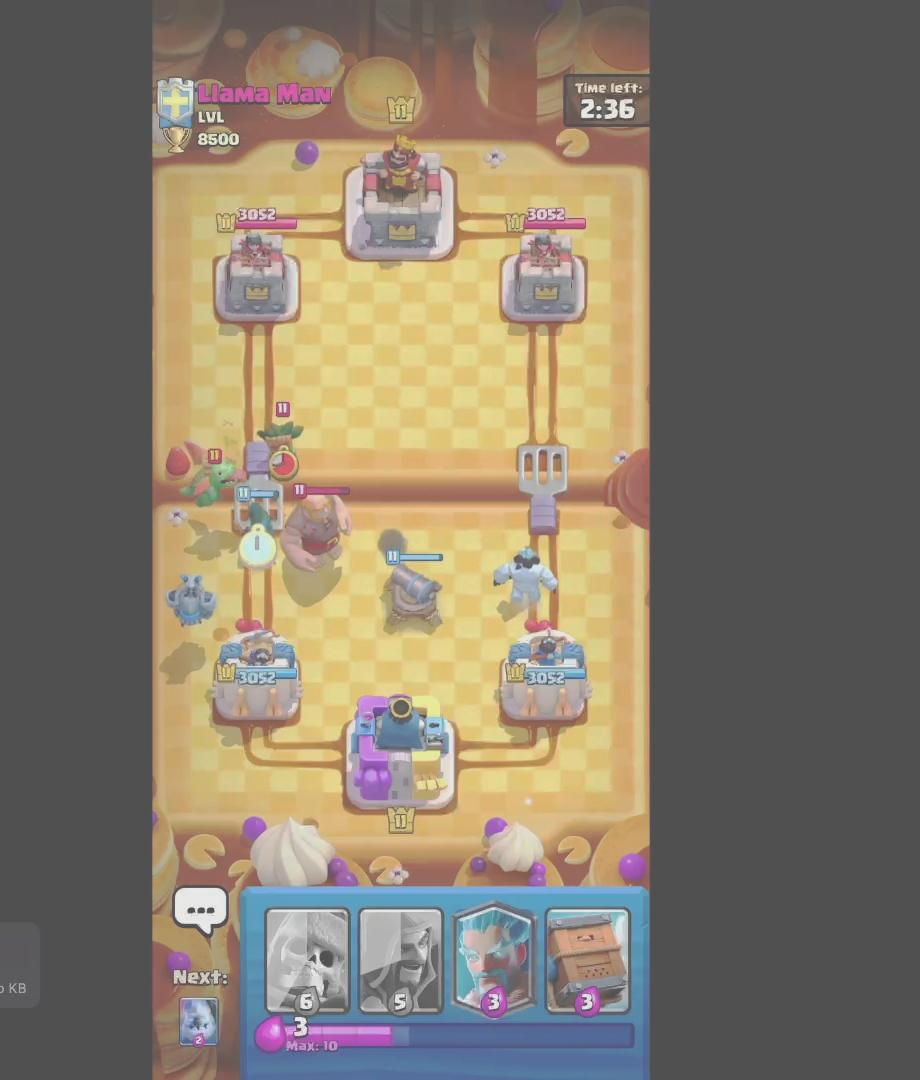Baby Dragon: (183, 446, 247, 514)
Dart Goblin: (255, 391, 312, 483)
Giant: (283, 471, 362, 583)
